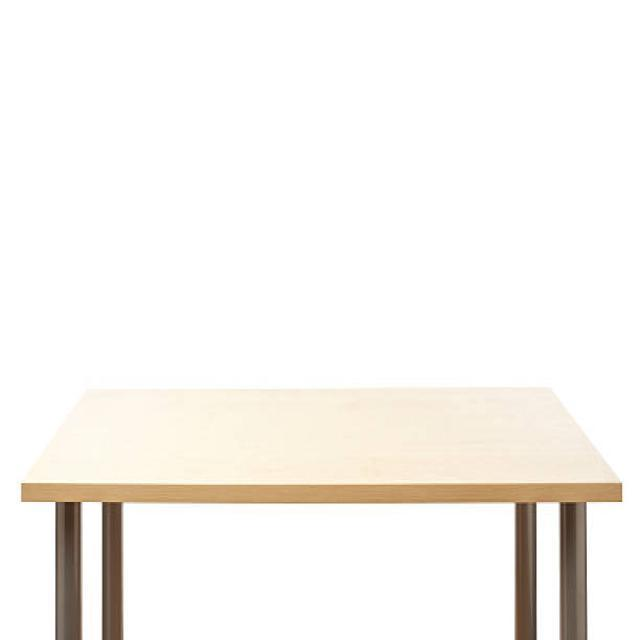table: (20, 384, 622, 638)
